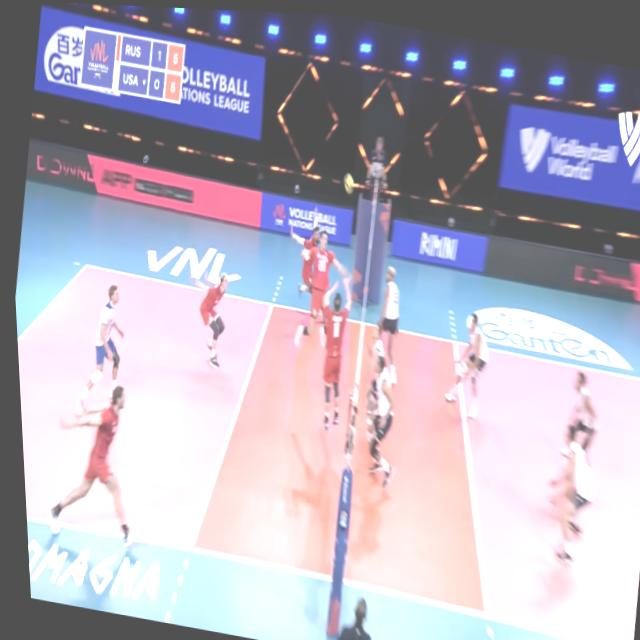player: (39, 375, 154, 547), (301, 263, 363, 440), (64, 277, 135, 424), (534, 416, 602, 569), (285, 223, 352, 354), (351, 348, 408, 488), (172, 261, 239, 377), (360, 259, 412, 389), (437, 301, 494, 415), (554, 360, 606, 461)
